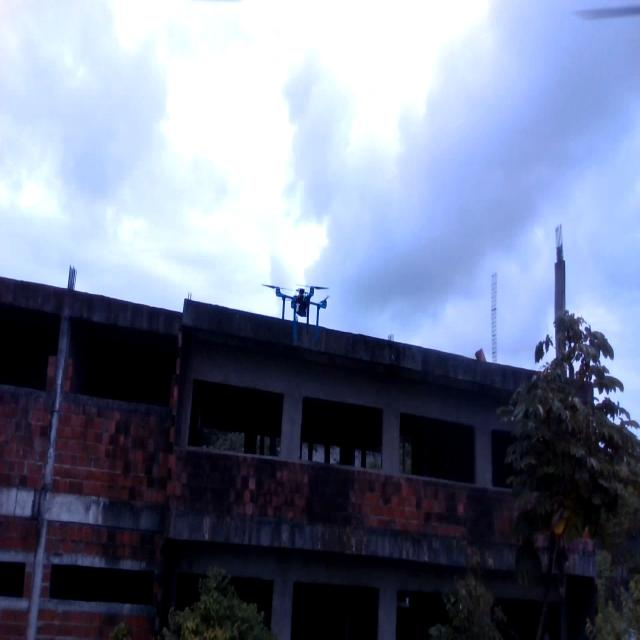-uav-: (261, 265, 340, 354)
